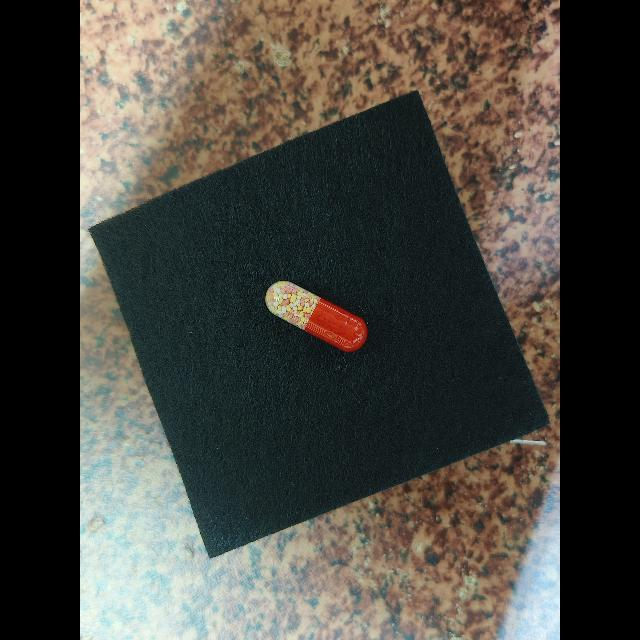Intact Capsule: (265, 281, 367, 352)
